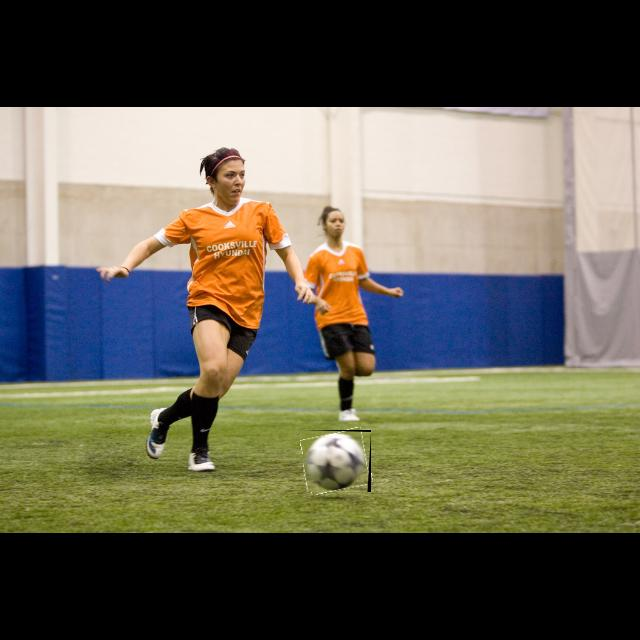Football: (303, 430, 371, 492)
